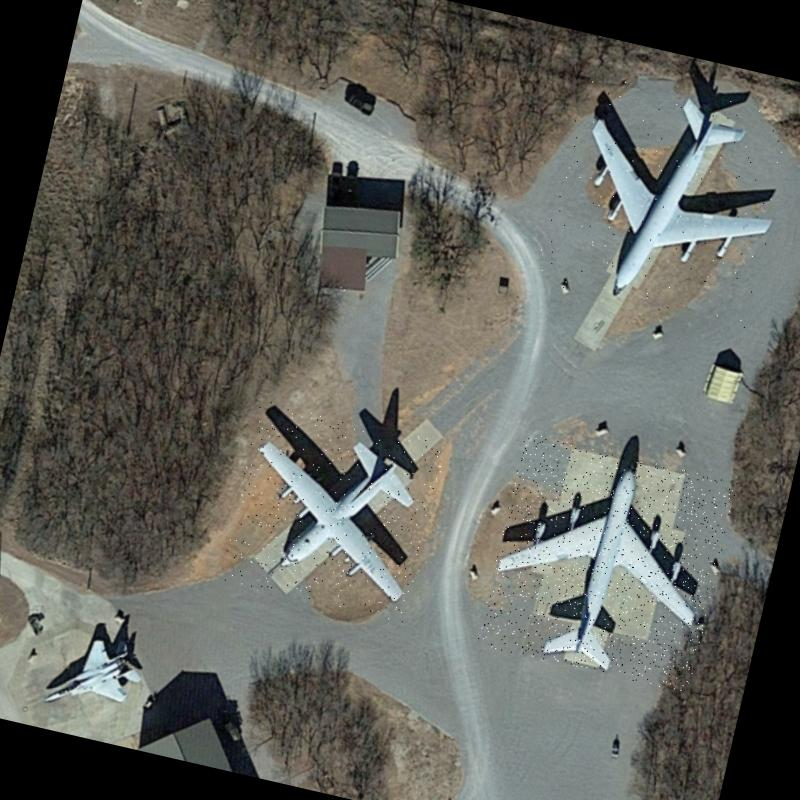A11: (530, 64, 799, 331), (476, 432, 737, 693)
A13: (40, 612, 158, 730)
A14: (219, 400, 447, 622)
